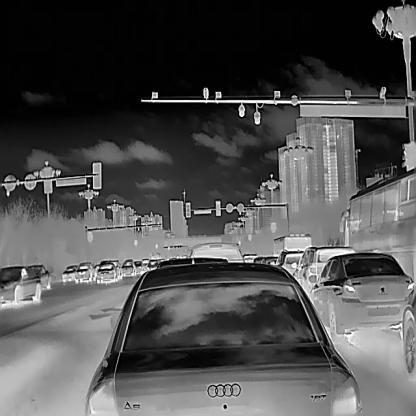car: (83, 263, 362, 416), (306, 250, 414, 342), (338, 167, 416, 280), (290, 243, 357, 295), (0, 265, 42, 305), (402, 285, 415, 376), (189, 241, 243, 262), (269, 246, 306, 275), (271, 234, 313, 259), (26, 263, 51, 290), (73, 259, 97, 283), (96, 259, 118, 284), (61, 263, 80, 281), (121, 258, 136, 277), (253, 256, 277, 265), (146, 258, 160, 270), (133, 260, 144, 274), (243, 253, 256, 263)
light: (184, 201, 195, 222), (214, 198, 221, 217)
sign: (223, 201, 235, 214), (237, 200, 245, 215)
